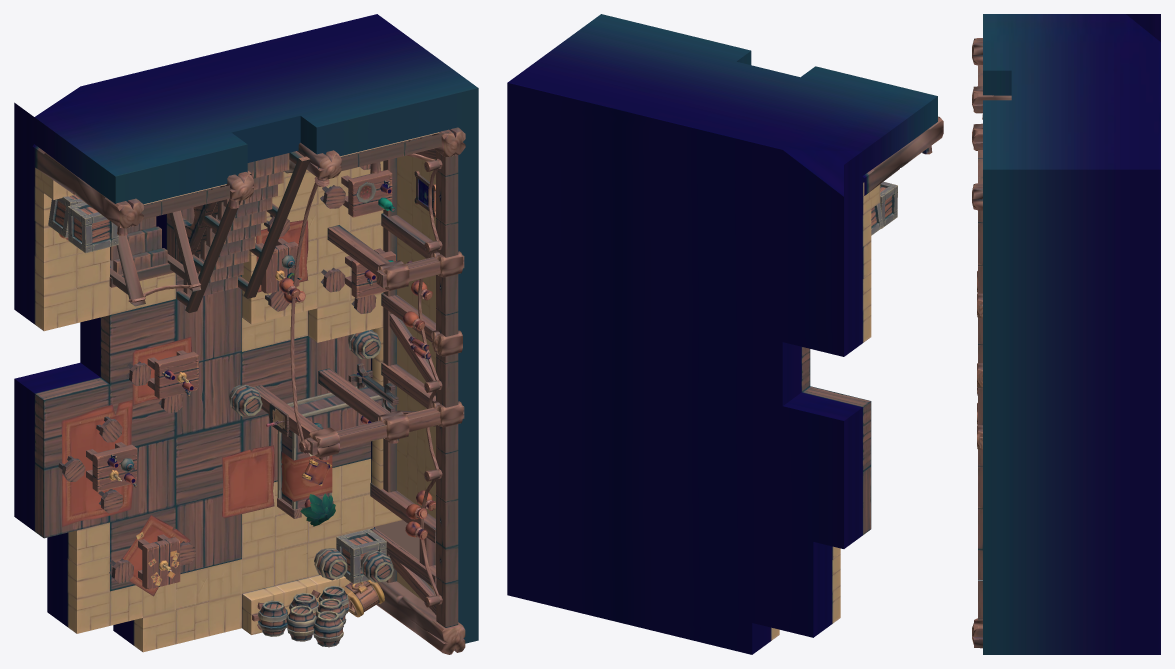
File: fantasy_game_inn2-transformed.glb
3 views of the same model, side by side, from view 1: azimuth 30°, elevation 25°; view 2: azimuth 150°, elevation 25°; view 3: azimuth 270°, elevation 25° (orthographic). The views are drawn at different scales.
Visible parts, largest first — view 1: TheInn_bakeInn_0; view 2: TheInn_bakeInn_0; view 3: TheInn_bakeInn_0.
Boxes of the visible parts, x1,y1,x2,y2 form: TheInn_bakeInn_0: [14, 14, 478, 654]; TheInn_bakeInn_0: [507, 14, 943, 654]; TheInn_bakeInn_0: [972, 14, 1160, 654].
Size of the model in its own units: 111 by 161 by 56.41.
1 material, 1 textured.
